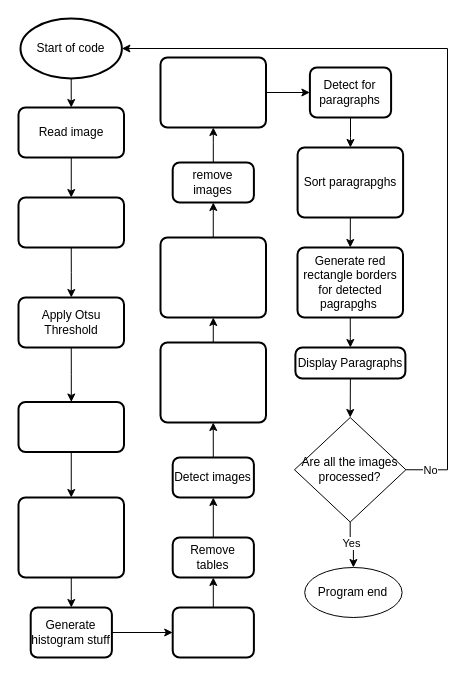
The diagram is 473 pixels wide and 675 high, and some of its shapes have lost their labels. Here are the shapes that lost their labels. From the top down, the centre of each, then its label:
point 212,92: Apply masking to remaining sections for paragraph detection
point 70,222: Make image grayscale
point 212,277: Convert detcted images from BGR to RGB
point 212,382: Convert detected images from RGB to HSR format
point 70,426: Apply Binary threshold
point 70,537: Count the number of dark pixels
point 212,632: Detect for tables
